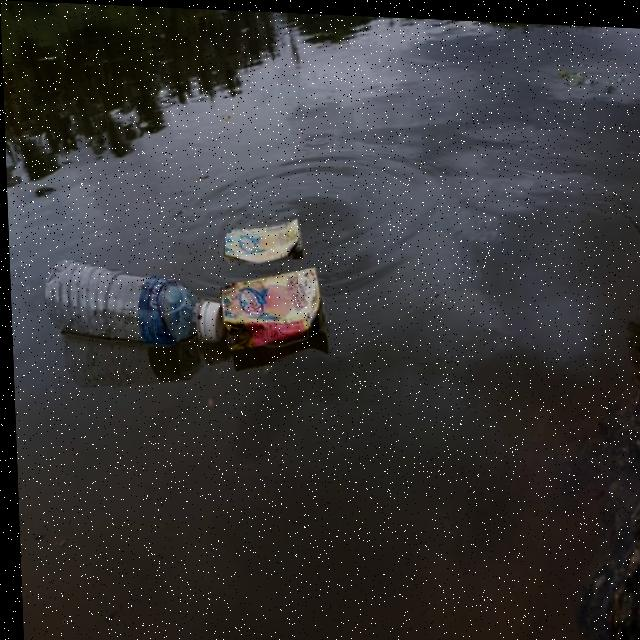paper: (224, 258, 327, 356), (216, 212, 309, 262)
waterbottle: (47, 239, 229, 369)
